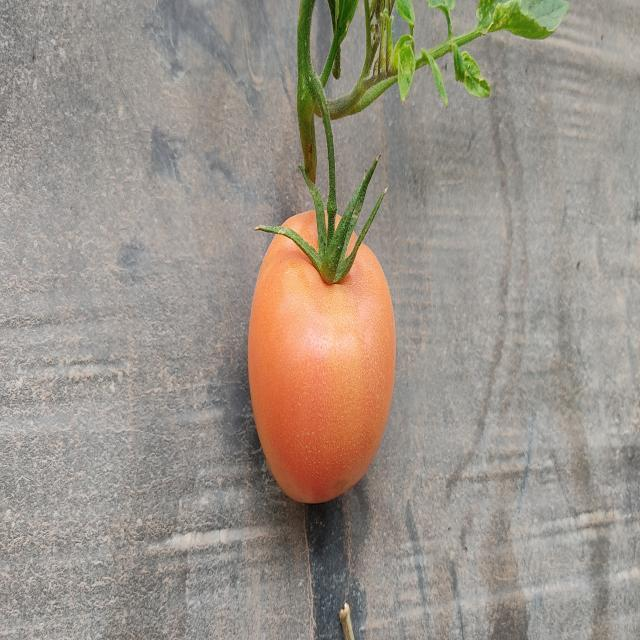Ripe Tomato: (240, 68, 398, 520)
